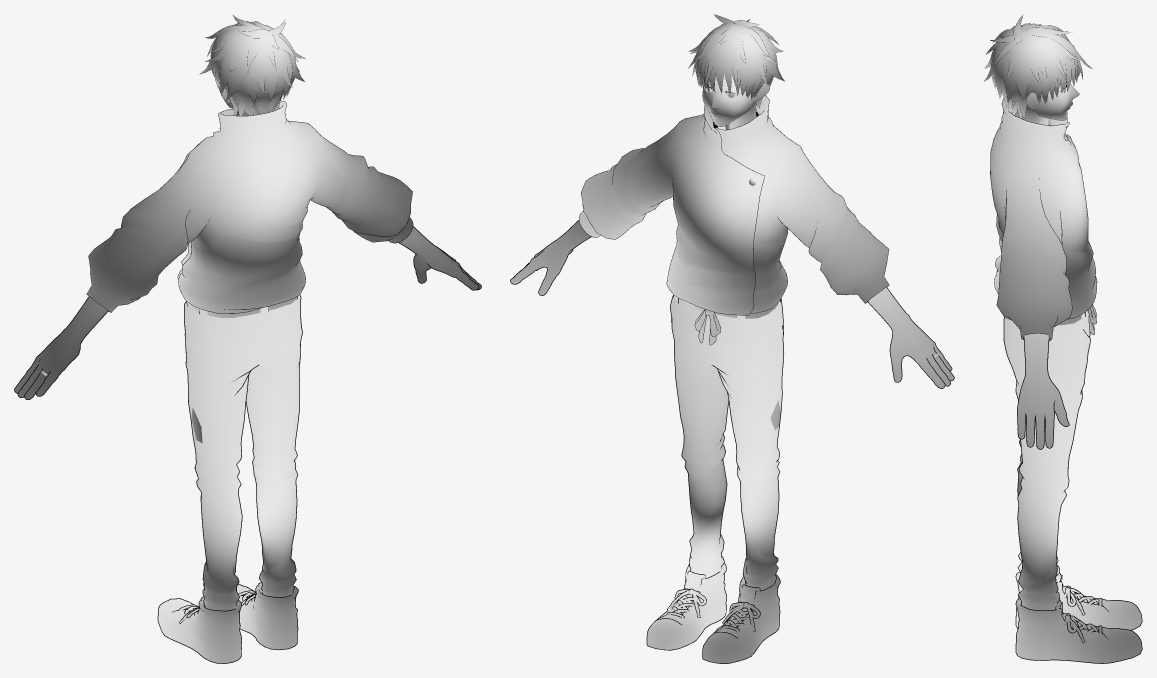
The model's file is yuta.fbx.
3 renders of one model, left to right at view 1: azimuth 30°, elevation 25°; view 2: azimuth 150°, elevation 25°; view 3: azimuth 270°, elevation 25°, orthographic. The views are drawn at different scales.
Visible parts, largest first — view 1: Object_11, Object_19.001, Object_19, Object_5, Object_21; view 2: Object_11, Object_19.001, Object_19, Object_21, Object_5, Object_8; view 3: Object_11, Object_19.001, Object_19, Object_5, Object_21, Object_8.
Boxes of the visible parts, x1,y1,x2,y2 form: Object_11: [86, 100, 413, 317]; Object_19.001: [184, 295, 302, 610]; Object_19: [157, 582, 298, 663]; Object_5: [199, 15, 305, 115]; Object_21: [14, 226, 481, 399]; Object_11: [579, 95, 889, 345]; Object_19.001: [670, 295, 784, 590]; Object_19: [646, 563, 780, 663]; Object_21: [510, 220, 954, 388]; Object_5: [688, 14, 785, 107]; Object_8: [702, 74, 769, 129]; Object_11: [990, 98, 1097, 340]; Object_19.001: [1003, 311, 1090, 610]; Object_19: [1015, 571, 1142, 663]; Object_5: [984, 14, 1092, 119]; Object_21: [1017, 333, 1069, 449]; Object_8: [1012, 78, 1079, 125].
Size of the model in its own units: 5482 by 7155 by 1677.
